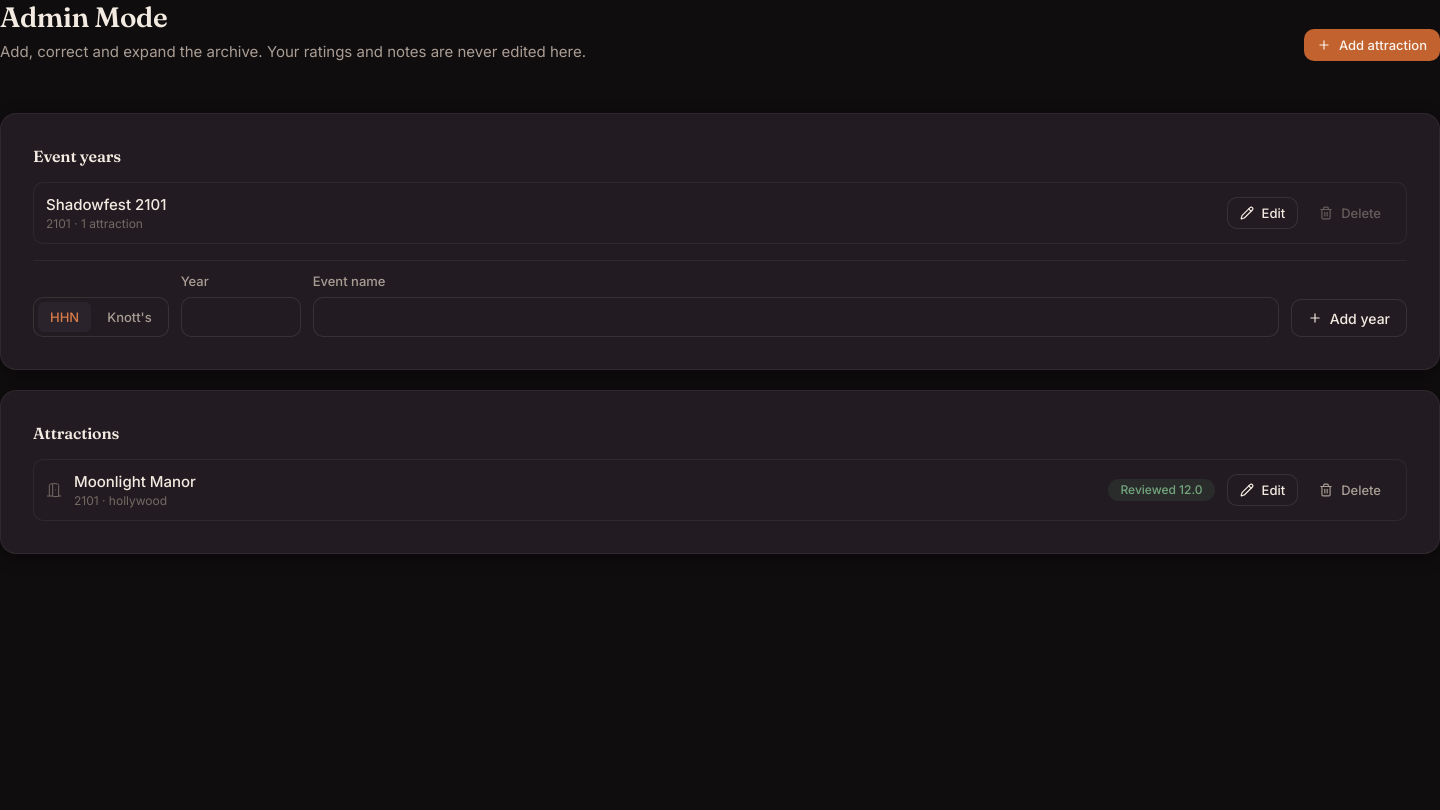
Test: AdminMode › attractions › spells out that deleting a reviewed attraction destroys the review too
Click the button "Delete" in the row of "Moonlight Manor": (1350, 490) [1306,474,1394,506]
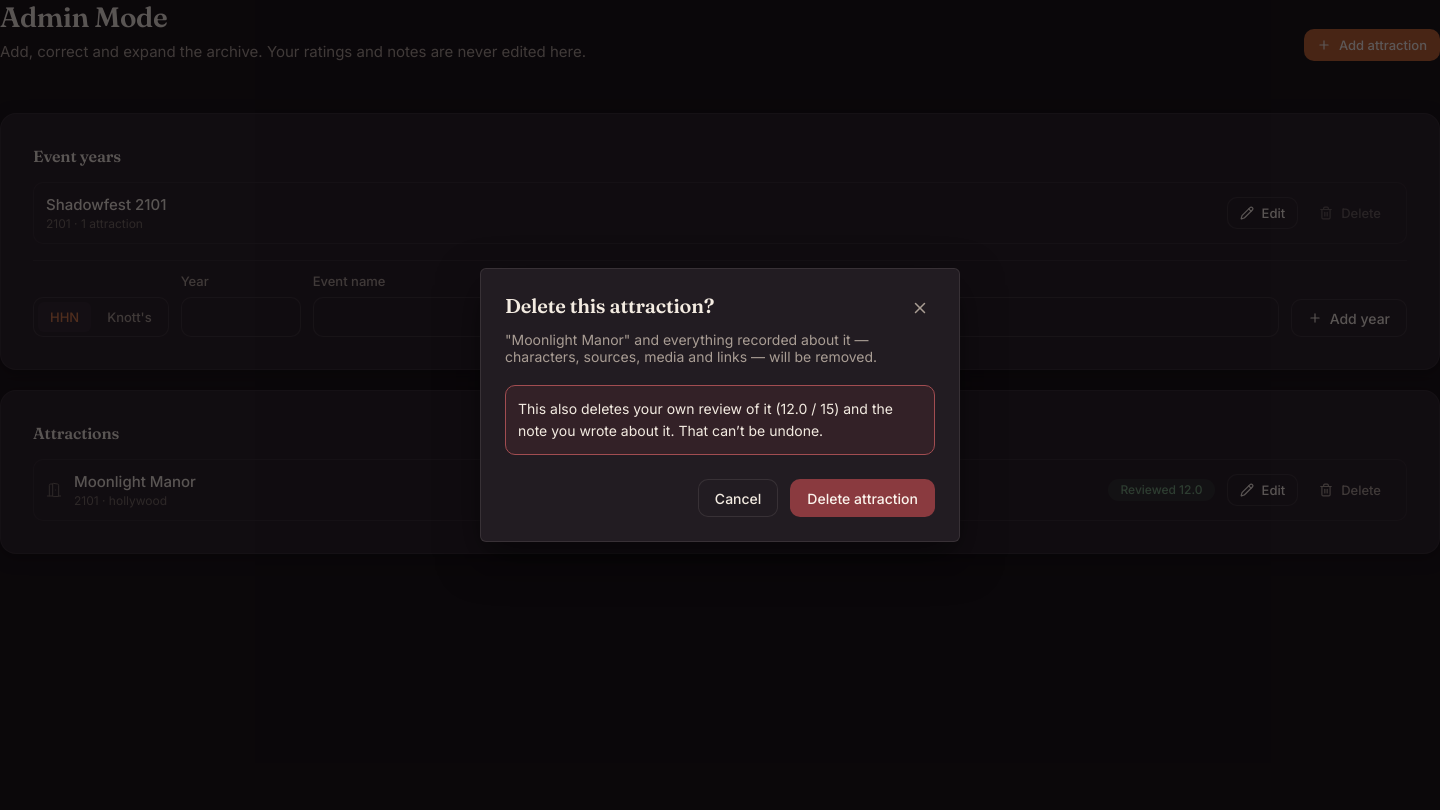
Expected: the message shows "deletes your own review", [518,400,772,417]
Expected: the message shows "12.0 / 15", [772,400,839,417]
Expected: the message shows "note you wrote", [518,400,893,439]
